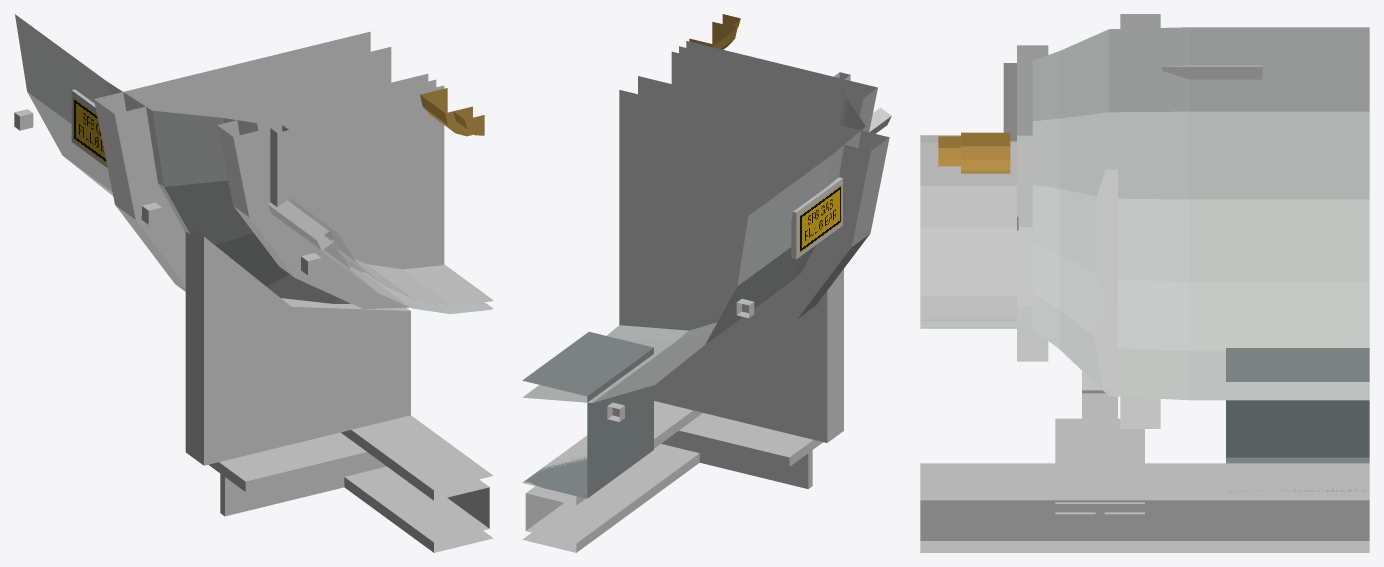
File: cell_50.obj
3 views of the same model, side by side, from view 1: azimuth 30°, elevation 25°; view 2: azimuth 150°, elevation 25°; view 3: azimuth 270°, elevation 25° (orthographic). The views are drawn at different scales.
Bounding box in the file's own units: 0.695 × 1 × 1.
